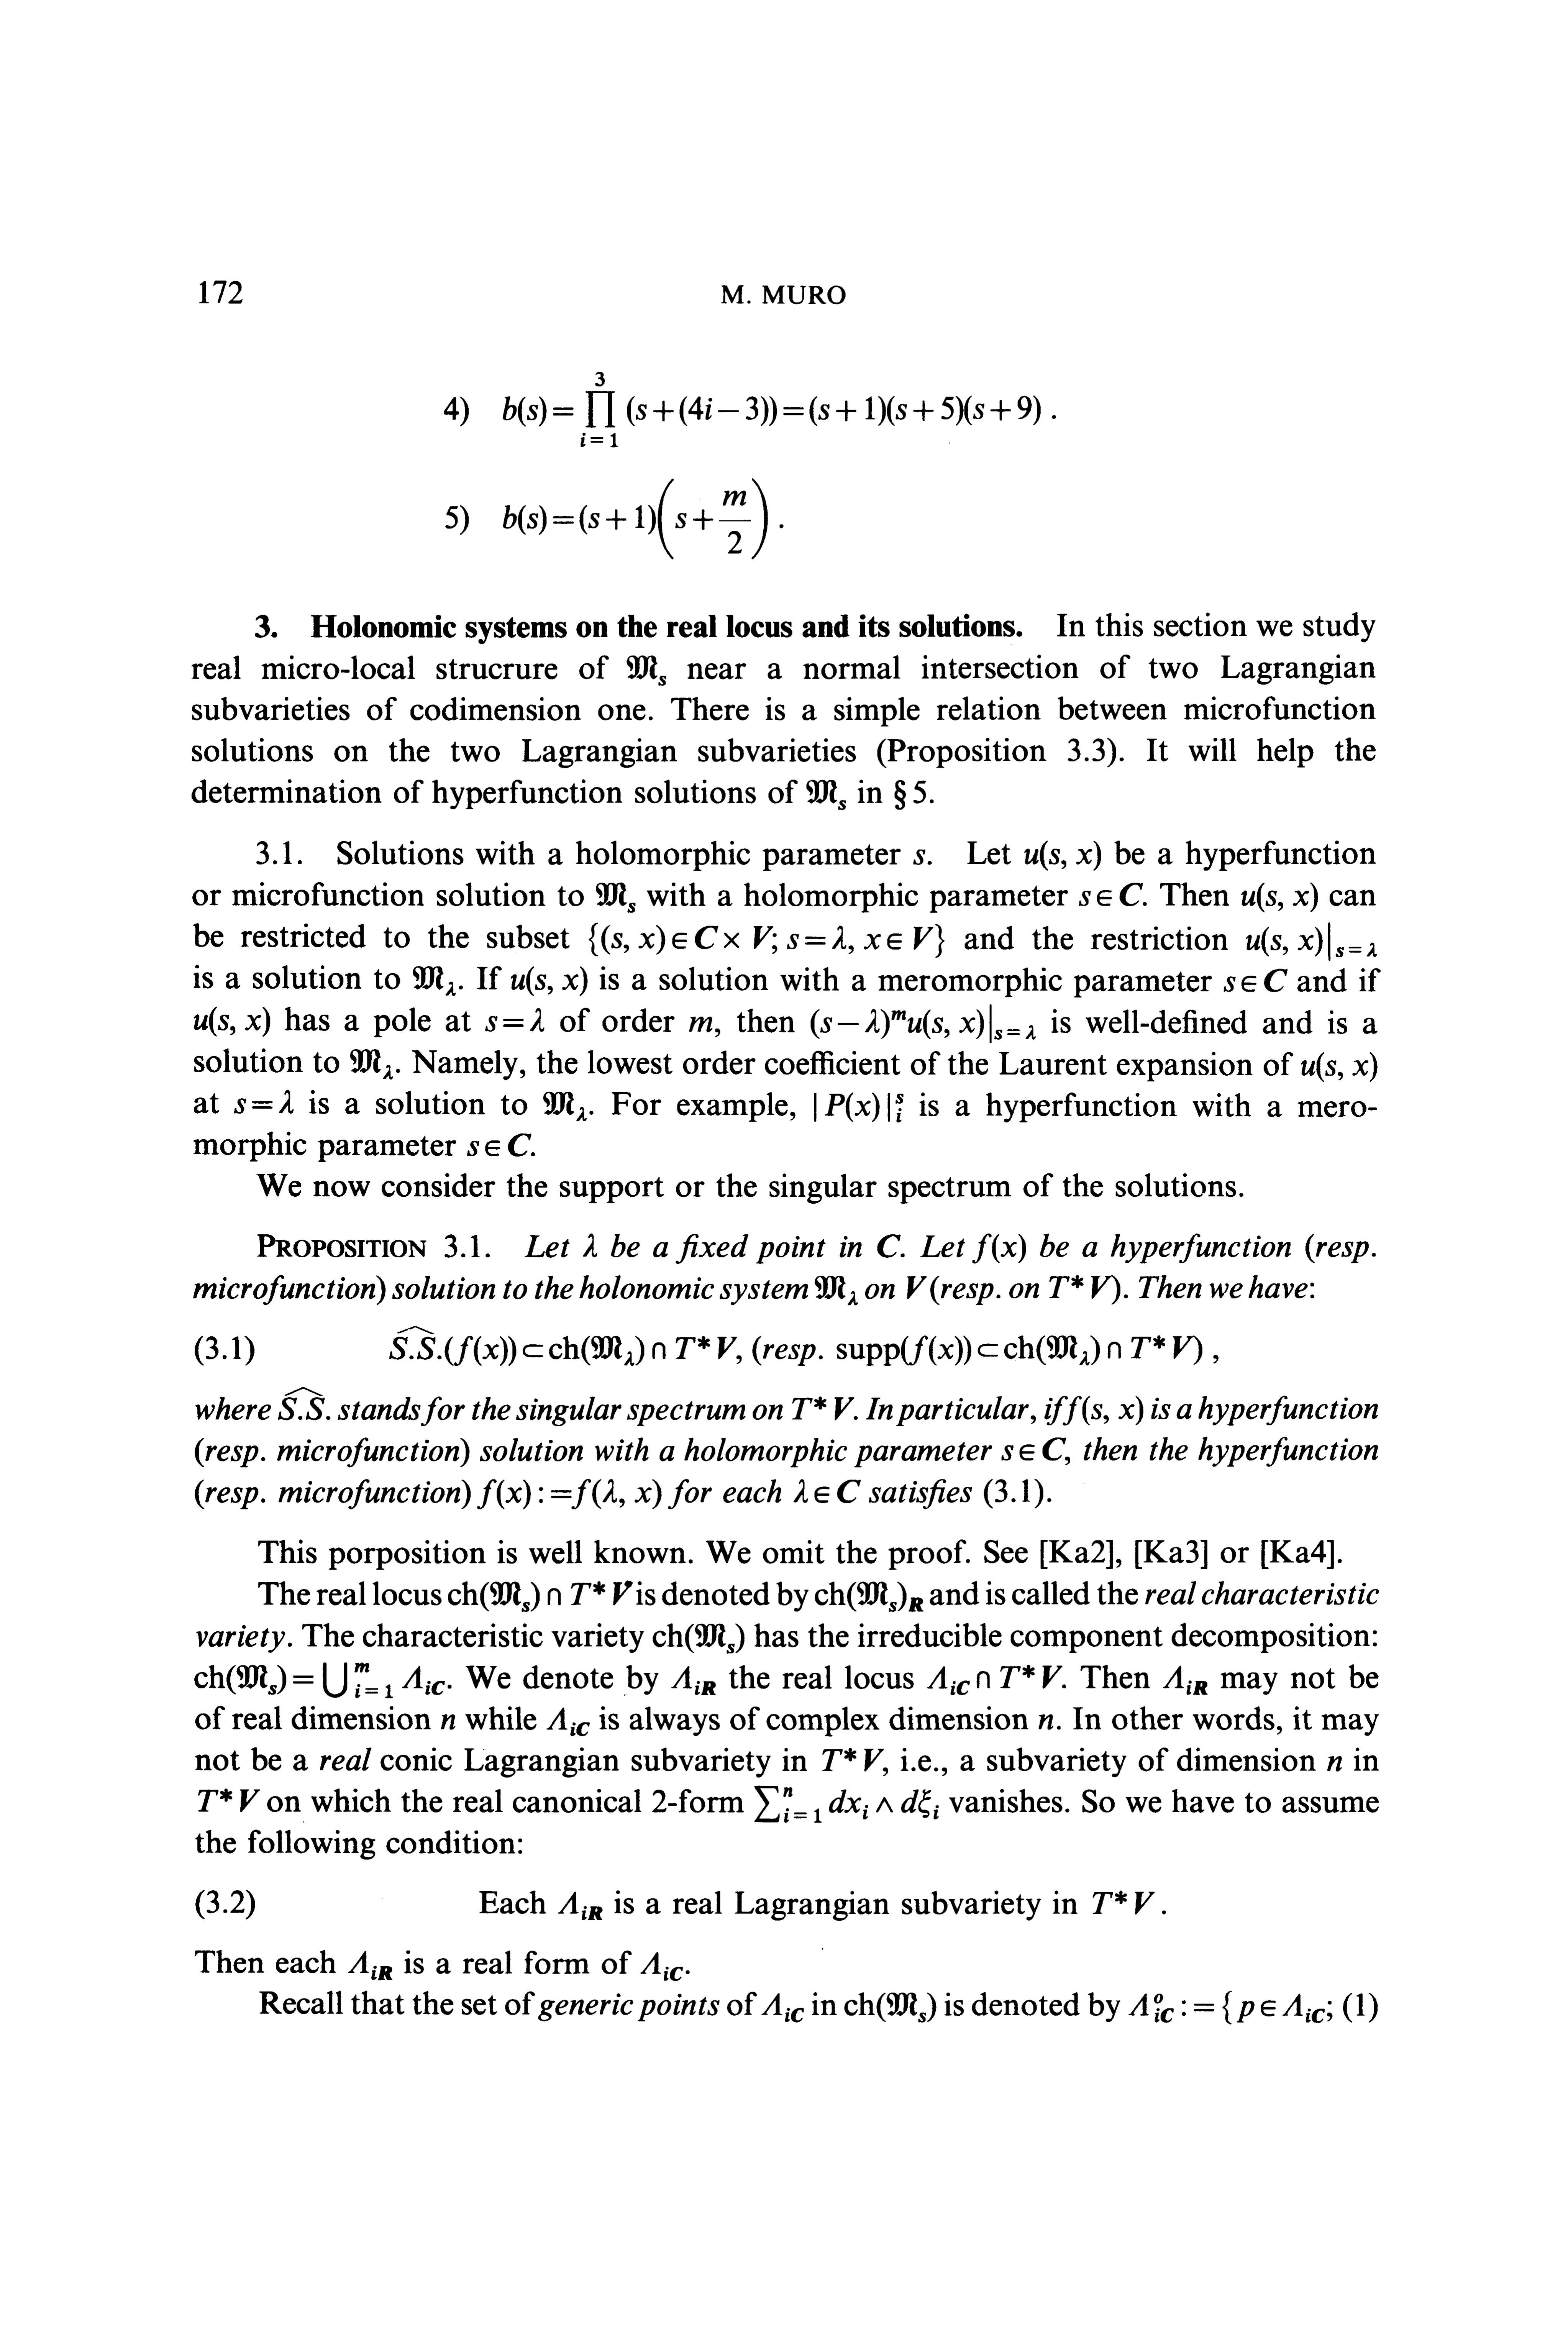maths: (502, 371, 1039, 446), (502, 478, 768, 558), (388, 1325, 740, 1365), (588, 922, 945, 957), (836, 1336, 1202, 1365), (194, 1663, 444, 1698), (810, 1005, 1036, 1043), (1129, 1990, 1377, 2023), (754, 1785, 938, 1822), (448, 1581, 632, 1612), (478, 1479, 661, 1509), (1246, 922, 1377, 961), (927, 1665, 1062, 1694), (815, 1582, 922, 1612), (1046, 1395, 1143, 1425), (653, 1623, 744, 1652), (845, 1992, 936, 2022), (814, 1092, 903, 1122), (1024, 840, 1101, 870), (1241, 882, 1318, 912), (1300, 1052, 1377, 1082), (511, 966, 586, 996), (194, 1006, 269, 1036), (1050, 1274, 1120, 1304), (973, 1234, 1025, 1264), (793, 1479, 861, 1502), (1080, 882, 1143, 907), (1223, 968, 1286, 992), (467, 1132, 530, 1157), (1092, 1890, 1155, 1915), (278, 1386, 324, 1420), (1001, 1437, 1066, 1460), (793, 1397, 854, 1420), (822, 1749, 884, 1771), (198, 1789, 259, 1812), (485, 1008, 544, 1031), (234, 1090, 294, 1113), (350, 1048, 392, 1080), (413, 966, 455, 996), (640, 1952, 682, 1981), (542, 1092, 586, 1120), (672, 1666, 716, 1694), (1164, 1666, 1207, 1694), (546, 1708, 590, 1736), (558, 1892, 602, 1920), (348, 1952, 392, 1980), (595, 882, 635, 912), (815, 1276, 857, 1304), (761, 1994, 803, 2022), (626, 656, 665, 686), (807, 781, 845, 810), (877, 1234, 901, 1257), (906, 1276, 926, 1299), (689, 1017, 712, 1033), (583, 1234, 597, 1257), (1326, 1756, 1342, 1771), (441, 1714, 455, 1729), (1039, 1714, 1053, 1729), (913, 849, 926, 865)
